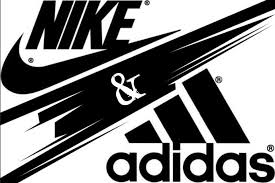adidas: (106, 67, 274, 182)
nike: (1, 29, 181, 96)
